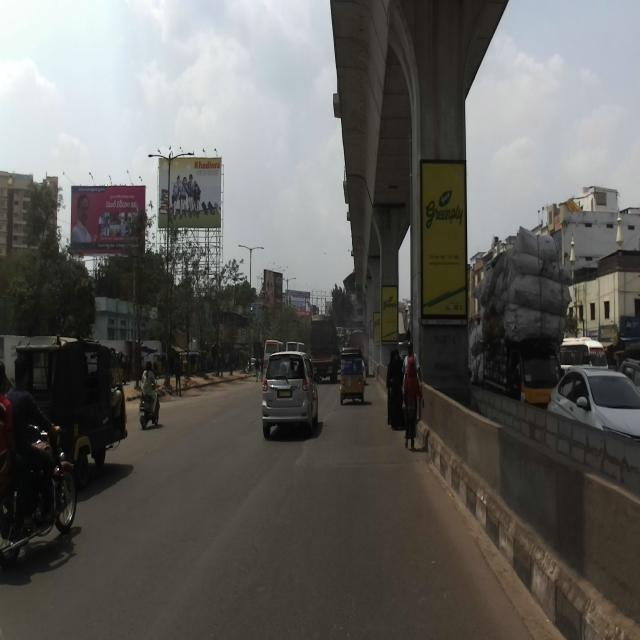Car: (546, 364, 640, 438)
Car_Maruti-Suzuki: (259, 349, 318, 438)
autorickshaw: (13, 333, 127, 491)
motorcycle_RoyalEnfield: (0, 421, 77, 566)
